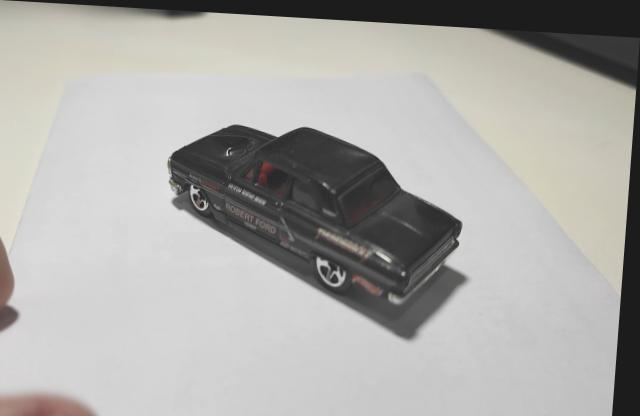01_FORD: (169, 123, 470, 335)
